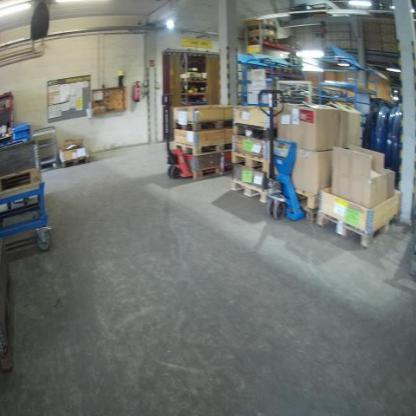pallet: (316, 210, 399, 249), (0, 166, 42, 201), (231, 177, 268, 204), (233, 120, 275, 143), (231, 149, 268, 175), (173, 118, 233, 133), (174, 142, 233, 157), (192, 162, 235, 182), (293, 188, 319, 210), (61, 154, 91, 170), (246, 35, 278, 45), (247, 24, 276, 33)
pallet_truck: (255, 86, 305, 223), (156, 86, 223, 180)
stillage: (275, 74, 326, 109)
